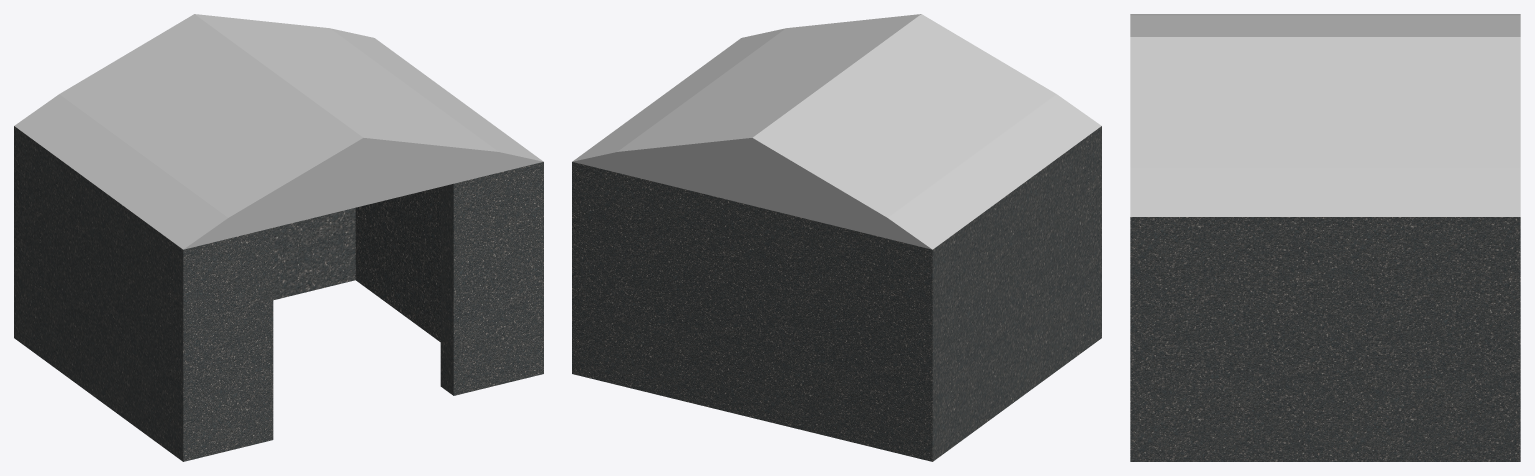
The model's file is Warehouse.fbx.
3 views of the same model, side by side, from view 1: azimuth 30°, elevation 25°; view 2: azimuth 150°, elevation 25°; view 3: azimuth 270°, elevation 25° (orthographic). The views are drawn at different scales.
Visible parts, largest first — view 1: Warehouse, Warehouse.001; view 2: Warehouse, Warehouse.001; view 3: Warehouse, Warehouse.001.
Part boxes in pixels (<box>): Warehouse: <box>14,126,543,461</box>; Warehouse.001: <box>14,14,543,249</box>; Warehouse: <box>572,126,1101,461</box>; Warehouse.001: <box>572,14,1101,249</box>; Warehouse: <box>1130,217,1520,461</box>; Warehouse.001: <box>1130,14,1520,216</box>.
Bounding box in the file's own units: 1600 × 1300 × 1188.
